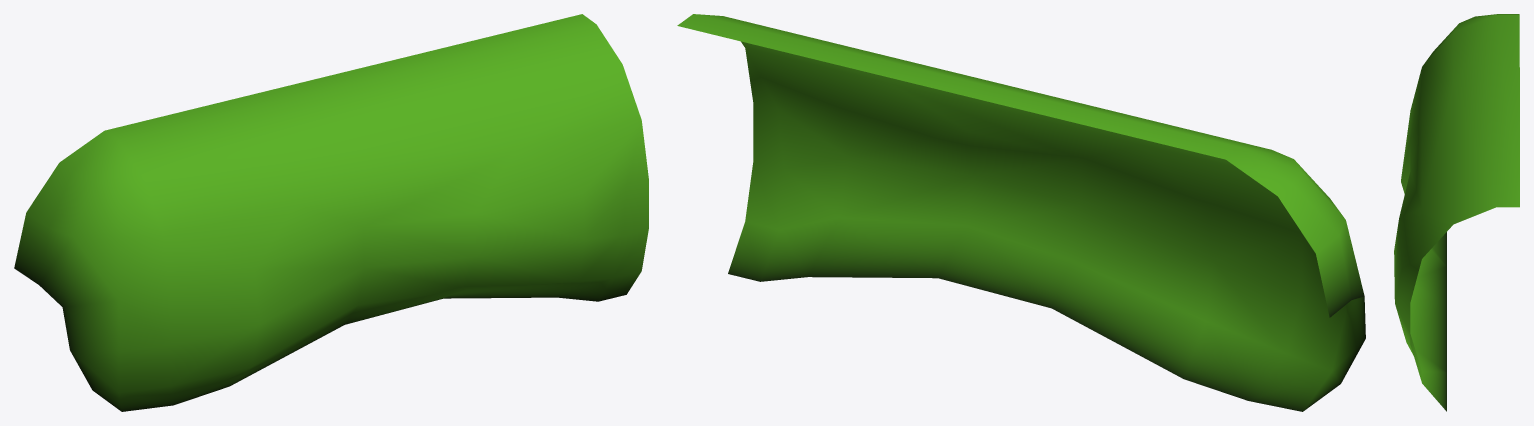
The model's file is Surface_CornerRoad.fbx.
3 renders of one model, left to right at view 1: azimuth 30°, elevation 25°; view 2: azimuth 150°, elevation 25°; view 3: azimuth 270°, elevation 25°, orthographic. The views are drawn at different scales.
Visible parts, largest first — view 1: Surface_CornerRoad; view 2: Surface_CornerRoad; view 3: Surface_CornerRoad.
Part boxes in pixels (box(x1,y1,x2,y2)): Surface_CornerRoad: box(14, 14, 648, 411); Surface_CornerRoad: box(677, 14, 1365, 411); Surface_CornerRoad: box(1394, 14, 1519, 411).
Size of the model in its own units: 2131 by 890 by 496.
